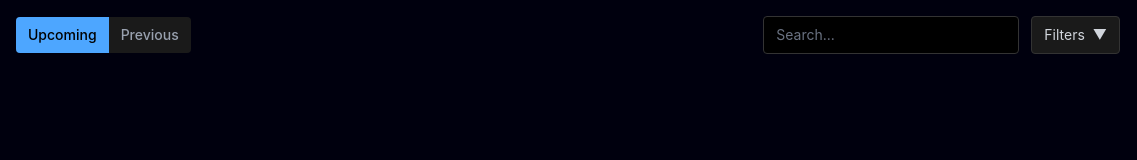
SearchBar › collapses filters when Filters button is clicked a second time
Click the button "Filters ▼": (1076, 35) [1031, 16, 1120, 54]
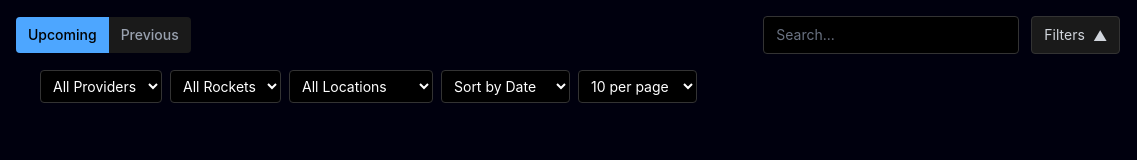
Check: the 1st dropdown is shown, box [40, 70, 162, 103]
Click the button "Filters ▼": (1076, 35) [1031, 16, 1120, 54]
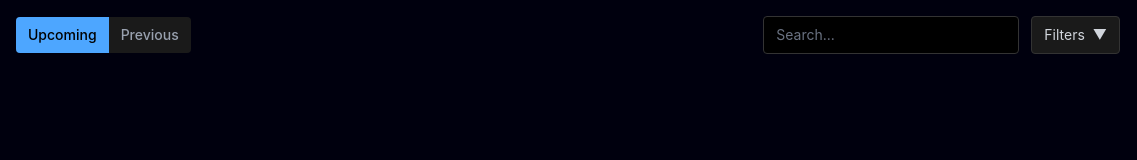
Check: no dropdowns are shown
